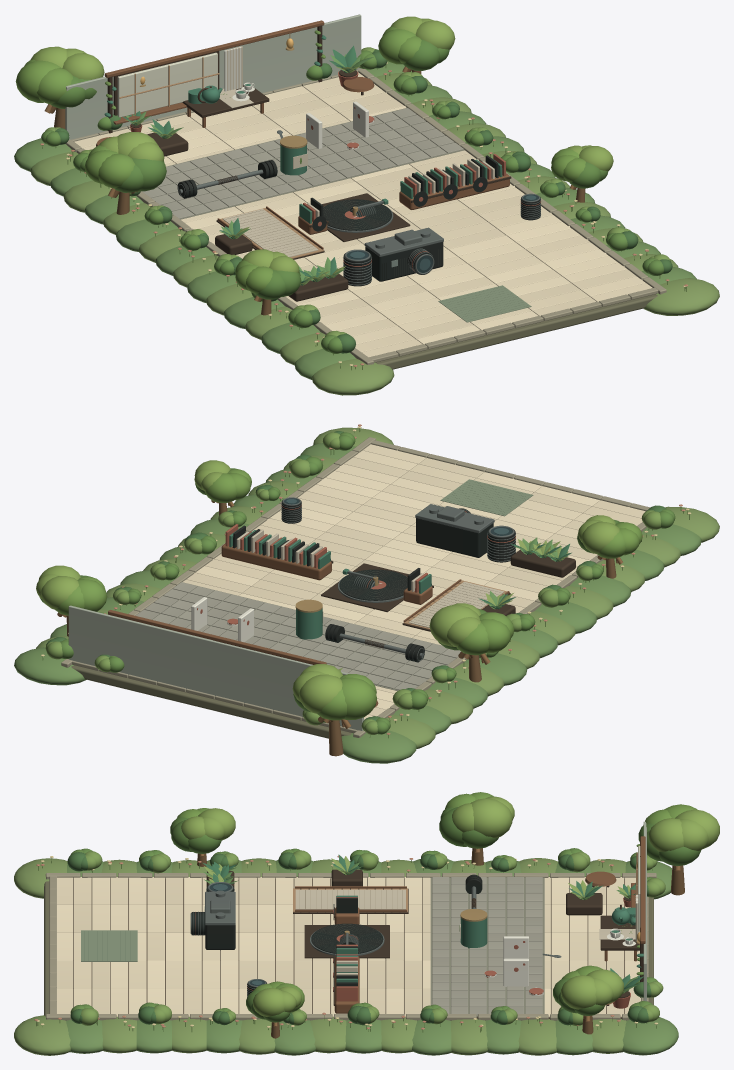
The model's file is atelier.glb.
3 renders of one model, top to bottom at view 1: azimuth 30°, elevation 25°; view 2: azimuth 150°, elevation 25°; view 3: azimuth 270°, elevation 25°, orthographic.
Parts seen in each view (by area): view 1: atelier, record; view 2: atelier, record; view 3: atelier, record.
Part boxes in pixels (x1,y1,x2,y2): atelier: (14,14,719,395); record: (323,199,391,230); atelier: (14,424,719,763); record: (339,569,407,600); atelier: (14,792,719,1055); record: (311,923,383,953).
Size of the model in its own units: 25.87 by 5.38 by 38.43.
